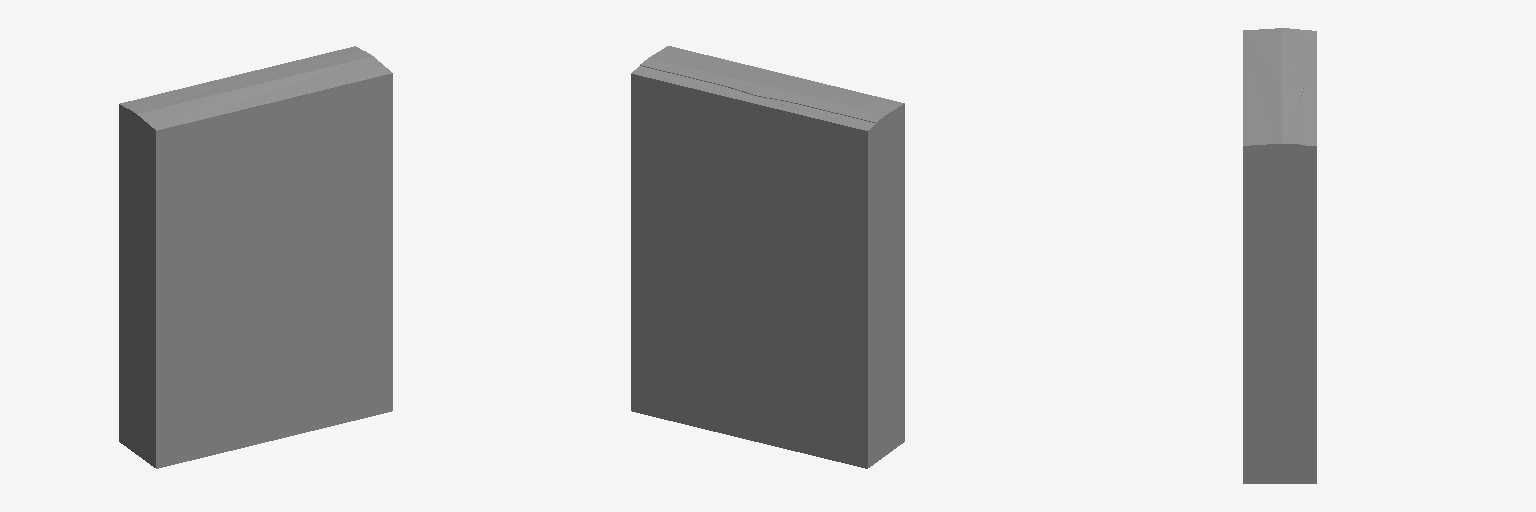
Rendered from tutorial_item.obj.
The picture shows the model from 3 angles: view 1: azimuth 30°, elevation 25°; view 2: azimuth 150°, elevation 25°; view 3: azimuth 270°, elevation 25°; orthographic projection.
Visible parts, largest first — view 1: Mr_SaturnRings; view 2: Mr_SaturnRings; view 3: Mr_SaturnRings.
Boxes of the visible parts, x1=… form: Mr_SaturnRings: x1=119, y1=46, x2=392, y2=468; Mr_SaturnRings: x1=631, y1=46, x2=904, y2=468; Mr_SaturnRings: x1=1243, y1=28, x2=1316, y2=483.
Size of the model in its own units: 16.91 by 23.29 by 4.64.